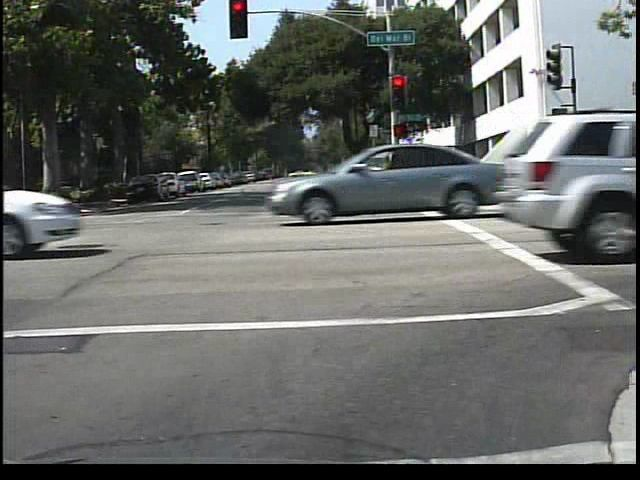person: (603, 137, 629, 202)
